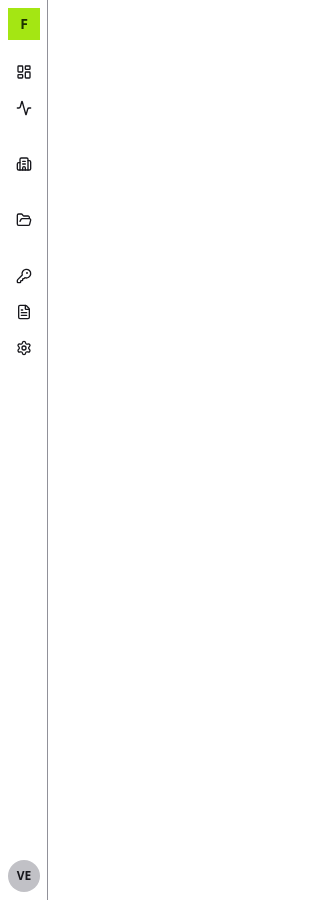
Test case: sidebar user menu › rail: clicking Projects opens the actions menu with New/All/list
Expected: the link "Apollo" is not shown
Press the mouse on the button named "Projects, 2 total" at (24, 220), box [8,204,40,236]
Click the button named "Projects, 2 total". click: (24, 220)
box: [8,204,40,236]
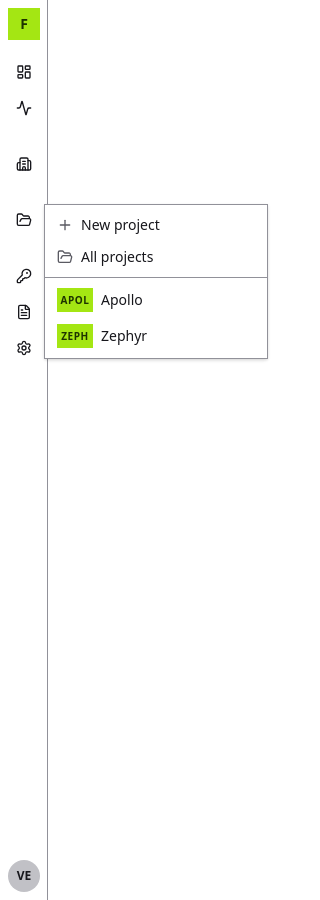
Result: the menu item "APOL Apollo" is shown at [57,288,143,312]
Result: the menu item "ZEPH Zephyr" is shown at [57,324,147,348]
